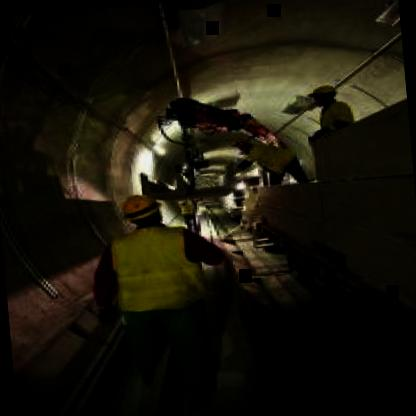helmet: (114, 192, 163, 226), (304, 82, 339, 106)
